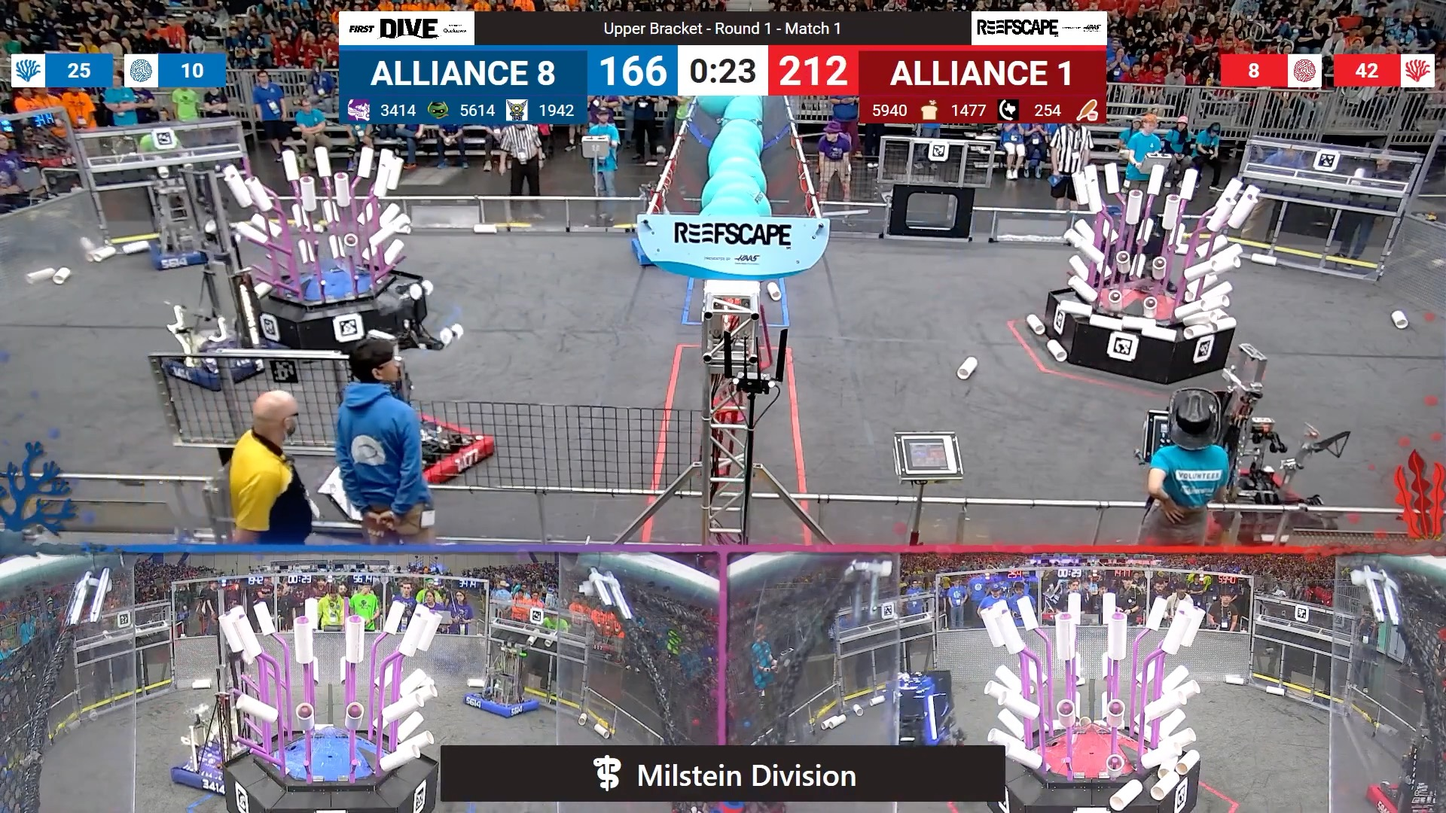bumpers: (419, 409, 499, 491), (156, 344, 284, 388), (171, 744, 251, 791), (458, 687, 544, 722), (144, 239, 235, 271), (1370, 776, 1446, 813), (624, 243, 661, 272)
